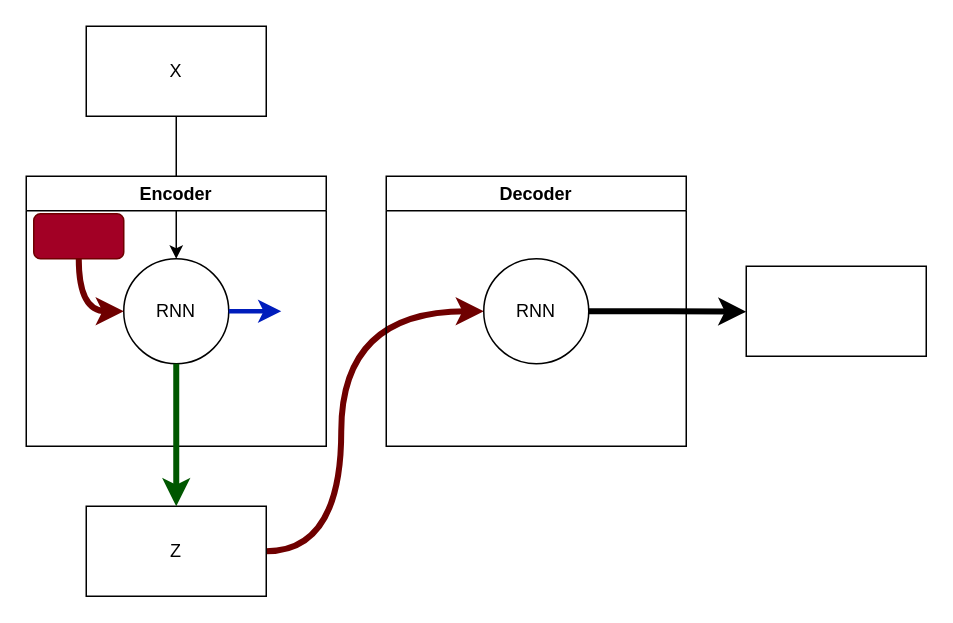
The diagram is 953 pixels wide and 623 high, and some of its shapes have lost their labels. The centre of each missing label's shape, as x and y in pixels:
"X'" goes at (835,310).
"Zeros" goes at (78,235).
